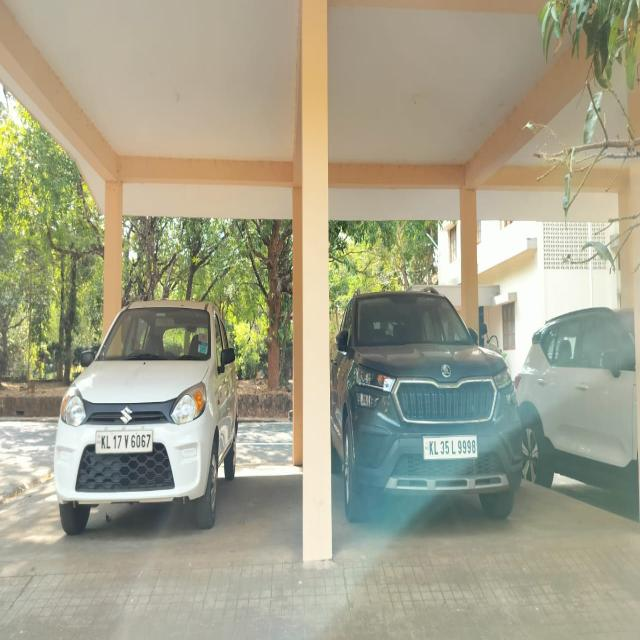car ahead at: (333, 274, 529, 549), (52, 286, 244, 528)
pillar ahead at: (296, 0, 338, 571)
